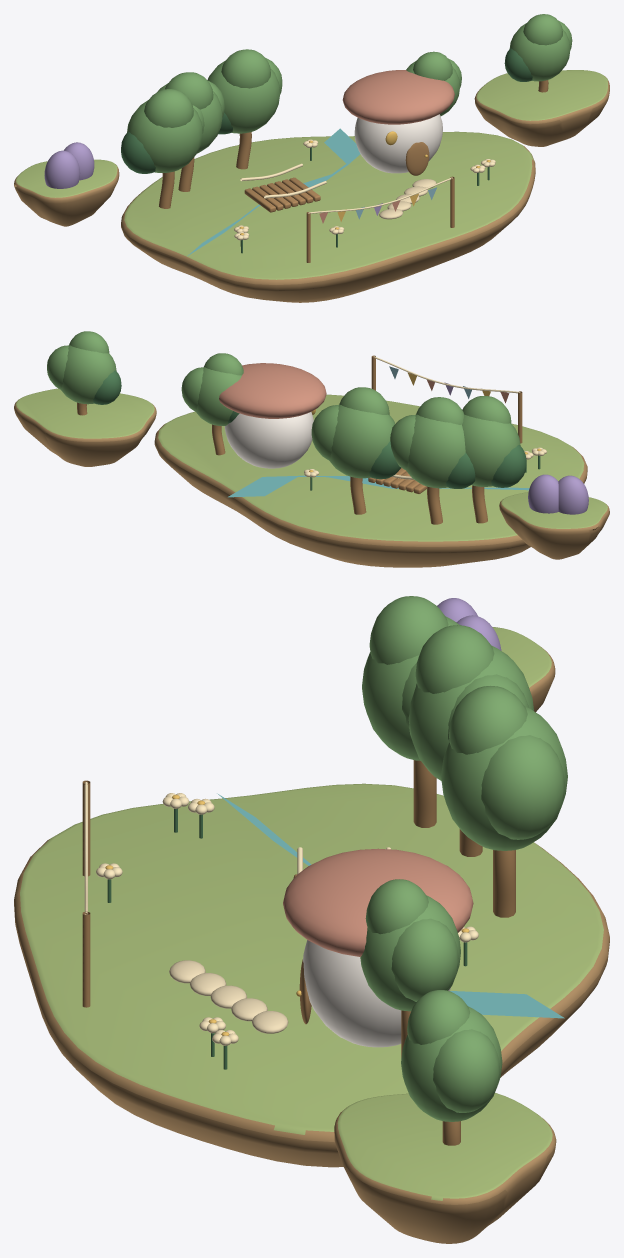
File: island.glb
3 renders of one model, top to bottom at view 1: azimuth 30°, elevation 25°; view 2: azimuth 150°, elevation 25°; view 3: azimuth 270°, elevation 25°, orthographic. The views are drawn at different scales.
Visible parts, largest first — view 1: Main_meadow, Study_islet, Cabin_roof, Cloud_islet, Cabin_body, Tree_canopy, Tree_canopy.008, Tree_canopy.016, Tree_canopy.003, Tree_canopy.011, Stream, Cloud_rock (+10 smaller); view 2: Main_meadow, Study_islet, Cabin_roof, Cloud_islet, Cabin_body, Tree_canopy.008, Tree_canopy.004, Tree_canopy, Tree_canopy.016, Tree_canopy.012, Stream, Cloud_rock.001 (+18 smaller); view 3: Main_meadow, Study_islet, Cabin_roof, Tree_canopy.010, Cabin_body, Tree_canopy.008, Tree_canopy.018, Tree_canopy.014, Tree_canopy.004, Tree_canopy.007, Tree_canopy.011, Tree_canopy (+11 smaller).
Part boxes in pixels (x1,y1,x2,y2): Main_meadow: (121,131,535,302); Study_islet: (474,70,609,146); Cabin_roof: (342,70,454,124); Cloud_islet: (14,159,119,226); Cabin_body: (354,114,442,173); Tree_canopy: (127,100,202,172); Tree_canopy.008: (207,60,280,133); Tree_canopy.016: (509,23,570,81); Tree_canopy.003: (144,89,193,127); Tree_canopy.011: (221,49,270,88); Stream: (187,128,360,256); Cloud_rock: (44,150,80,188); Main_meadow: (154,394,587,567); Study_islet: (14,388,156,466); Cabin_roof: (219,363,326,418); Cloud_islet: (499,492,609,559); Cabin_body: (224,412,313,468); Tree_canopy.008: (329,404,395,478); Tree_canopy.004: (406,414,465,488); Tree_canopy: (462,414,520,486); Tree_canopy.016: (61,345,116,404); Tree_canopy.012: (195,367,241,425); Stream: (228,475,529,497); Cloud_rock.001: (528,474,558,513); Main_meadow: (14,783,609,1167); Study_islet: (334,1093,556,1243); Cabin_roof: (283,848,473,956); Tree_canopy.010: (481,735,565,839); Cabin_body: (303,940,450,1047); Tree_canopy.008: (441,706,567,850); Tree_canopy.018: (433,1029,500,1112); Tree_canopy.014: (391,918,458,1001); Tree_canopy.004: (408,645,533,780); Tree_canopy.007: (415,625,494,693); Tree_canopy.011: (449,686,527,754); Tree_canopy: (362,616,460,760).
Size of the model in its own units: 10.89 by 3.54 by 5.19.
